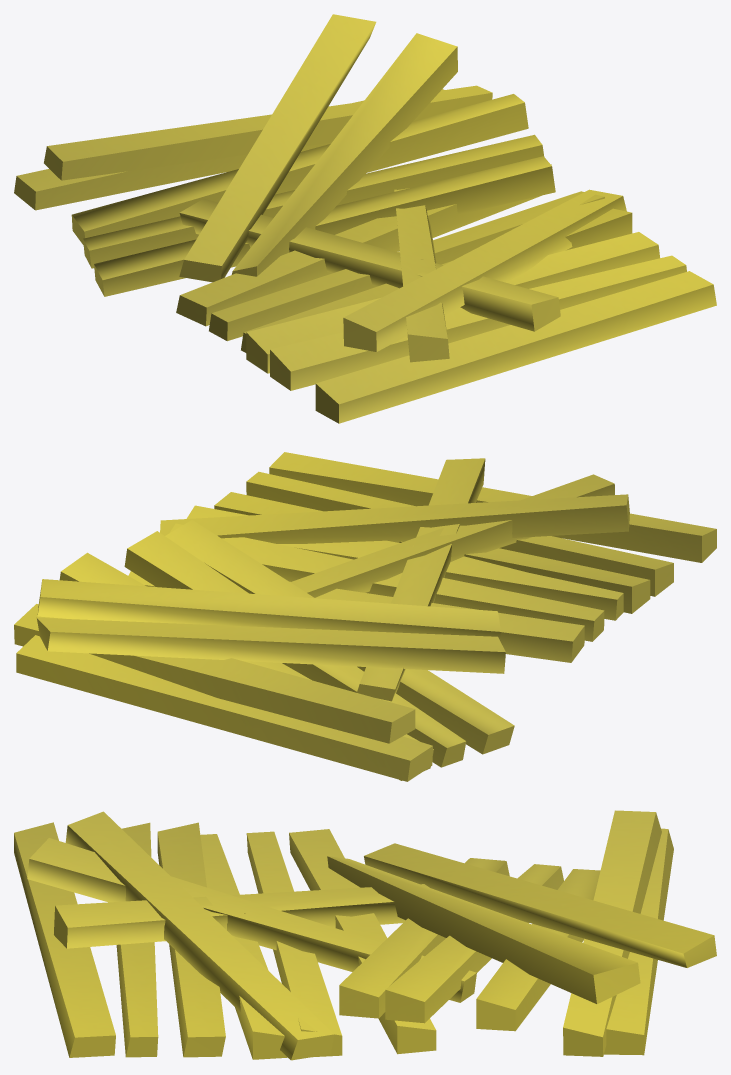
Rendered from PotatoChopped.glb.
3 views of the same model, one above another, from view 1: azimuth 30°, elevation 25°; view 2: azimuth 150°, elevation 25°; view 3: azimuth 270°, elevation 25° (orthographic). The views are drawn at different scales.
Visible parts, largest first — view 1: Cube.033; view 2: Cube.033; view 3: Cube.033.
Boxes of the visible parts, <box> form: Cube.033: <box>14,14,716,423</box>; Cube.033: <box>14,452,716,781</box>; Cube.033: <box>14,810,716,1060</box>.
Bounding box in the file's own units: 0.3 × 0.0745 × 0.4001.
Materials: 1 (1 with a texture image).
